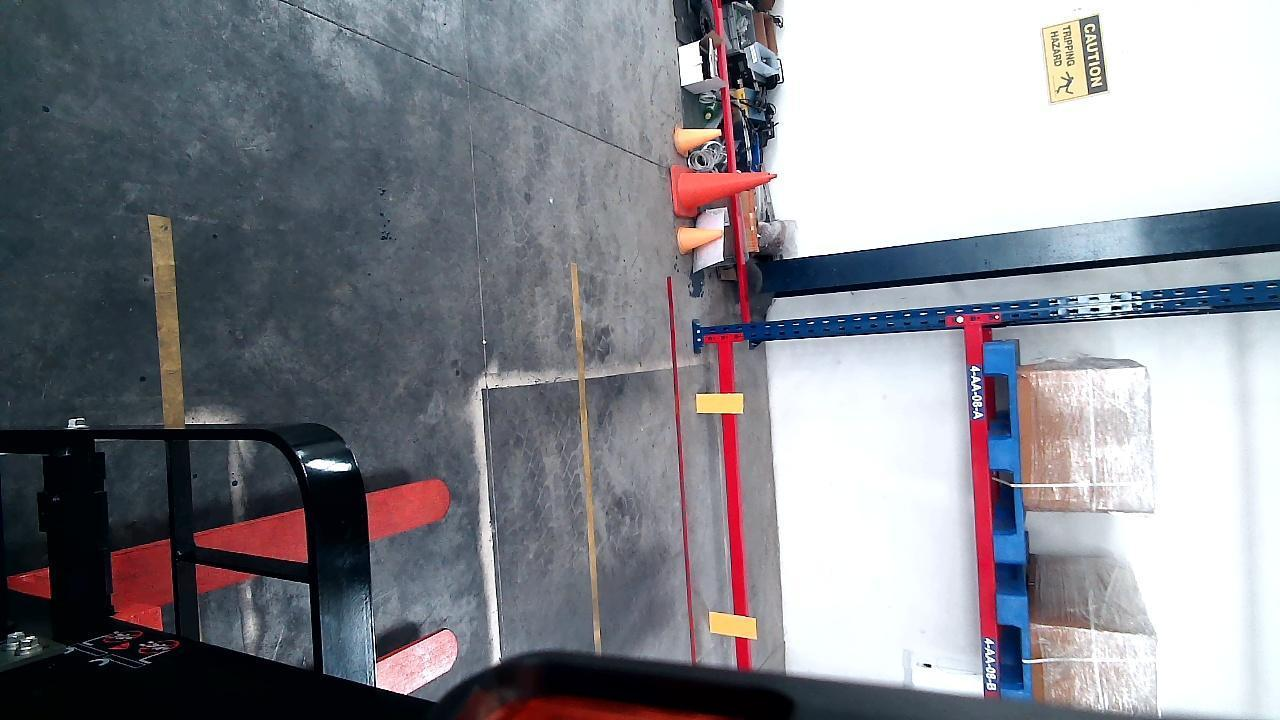h_rack: (718, 326, 751, 676), (968, 334, 997, 691)
orange_strip: (705, 611, 753, 638), (695, 392, 743, 414)
red_line: (661, 275, 702, 664)
small_pallet: (985, 337, 1024, 546), (995, 582, 1032, 700)
yellow_line: (568, 266, 606, 651), (147, 210, 184, 426)
